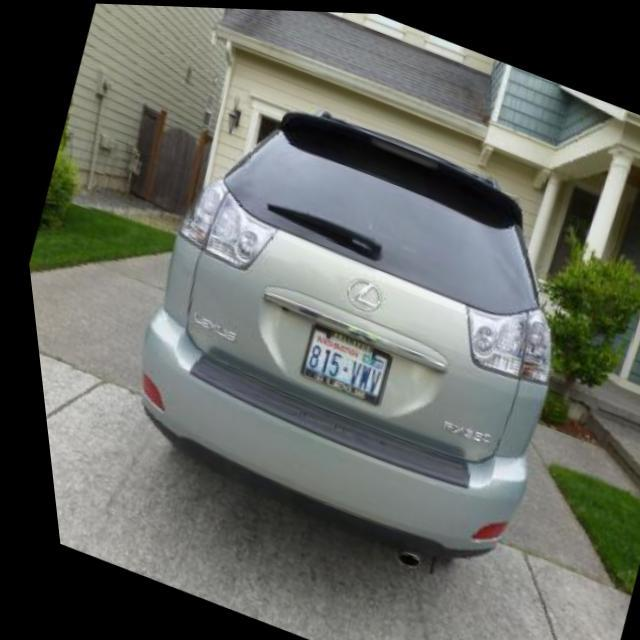license_plate: (286, 320, 389, 404)
